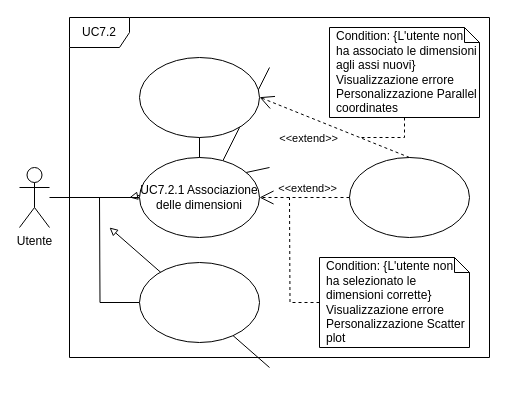
This 507x393 diagram has some shape labels left out. The shapes that lost their labels are listed below. From the top down, each one's centre as x and y in pixels, then its label:
At point (199, 97): "UC7.2.2 Ordine e numero degli assi".
At point (409, 197): "UC Errore nella visualizzazione Parallel coordinates".
At point (199, 302): "UC7.2.3 Personalizzazione dello stile".
